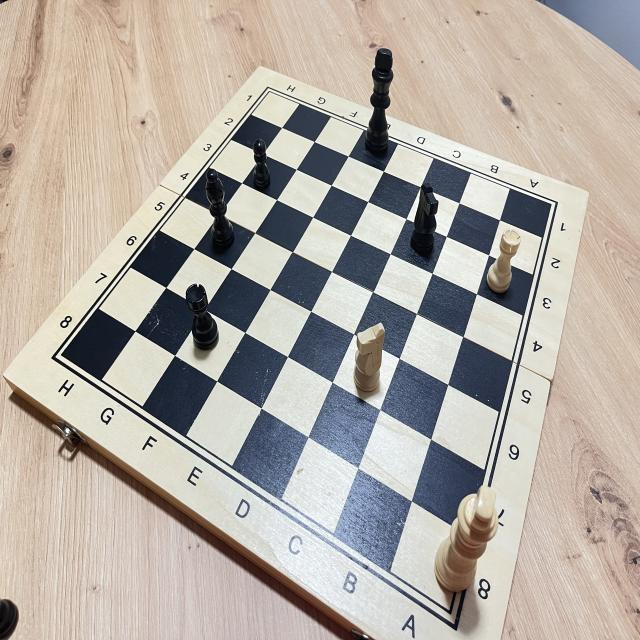black-bishop: (200, 165, 240, 258)
black-king: (357, 40, 398, 170)
black-knight: (406, 179, 444, 257)
black-pawn: (247, 133, 278, 195)
black-rook: (178, 274, 224, 354)
white-king: (432, 473, 501, 607)
white-knight: (347, 312, 388, 394)
white-rook: (480, 217, 530, 308)
